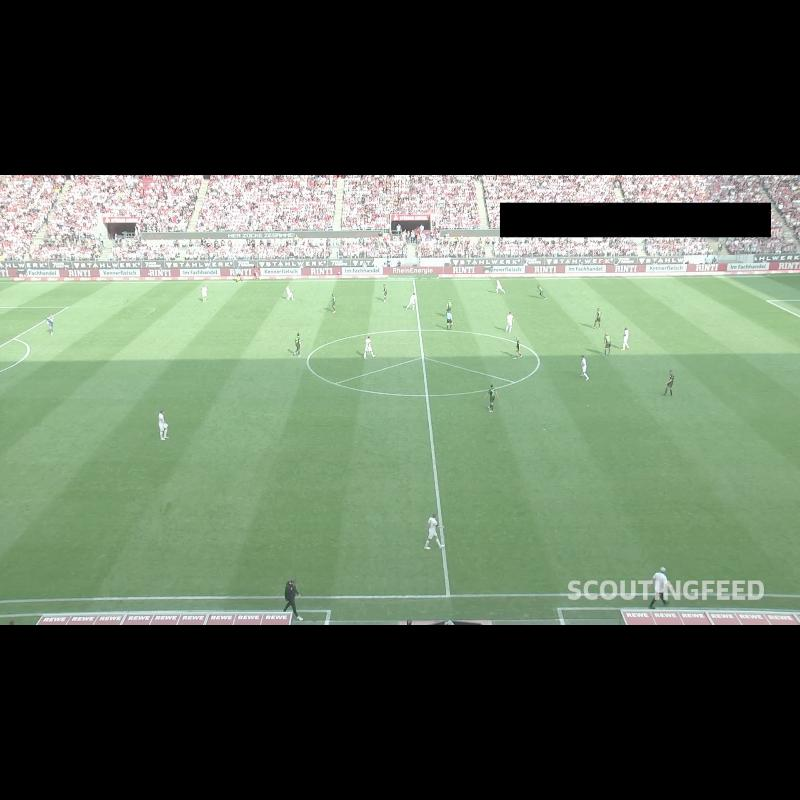cross_recipient_zone: (0, 307, 68, 347), (766, 300, 800, 317)
crossing_player_zone: (0, 282, 202, 307), (626, 275, 800, 304)
pitch: (0, 276, 800, 601)
